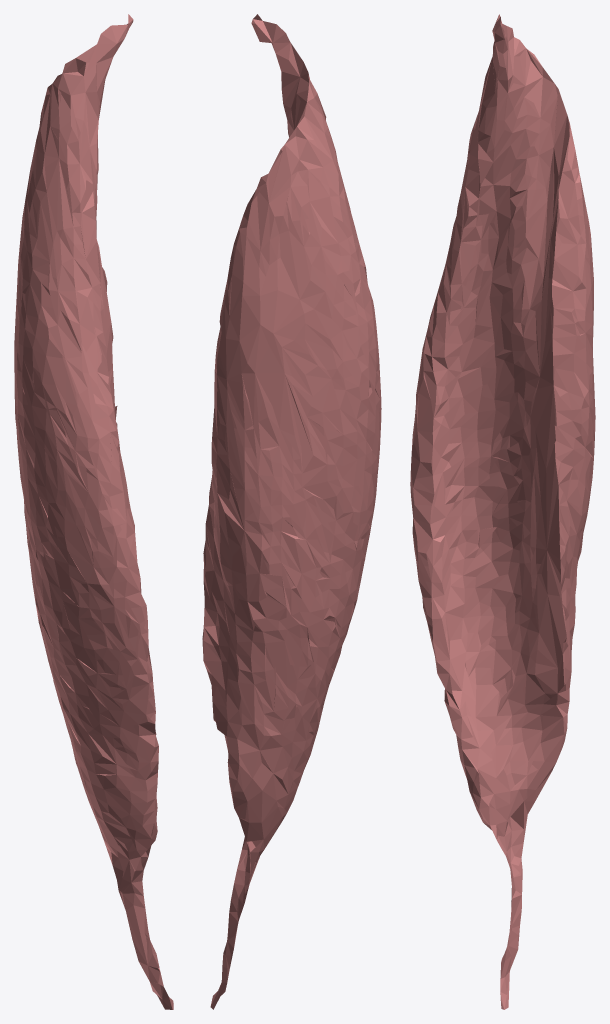
Rendered from Vastus_lateralis_muscle.r.glb.
3 views of the same model, side by side, from view 1: azimuth 30°, elevation 25°; view 2: azimuth 150°, elevation 25°; view 3: azimuth 270°, elevation 25° (orthographic). The views are drawn at different scales.
Parts seen in each view (by area): view 1: Vastus_lateralis_muscle.r; view 2: Vastus_lateralis_muscle.r; view 3: Vastus_lateralis_muscle.r.
Boxes of the visible parts, <box> form: Vastus_lateralis_muscle.r: <box>14,14,173,1009</box>; Vastus_lateralis_muscle.r: <box>202,14,381,1009</box>; Vastus_lateralis_muscle.r: <box>410,14,595,1009</box>.
Size of the model in its own units: 0.0729 by 0.4542 by 0.0784.
